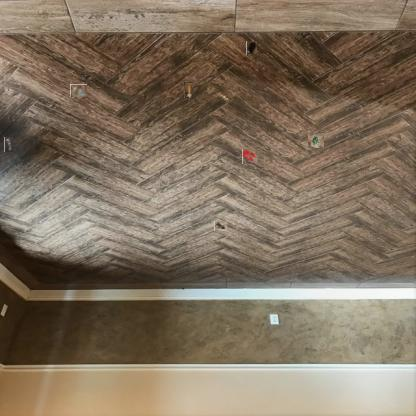dirty: (308, 132, 324, 148), (71, 83, 86, 98), (4, 136, 13, 152), (214, 221, 227, 231), (184, 82, 192, 98), (159, 176, 169, 186)
liquid: (242, 149, 258, 164), (246, 41, 257, 55)
